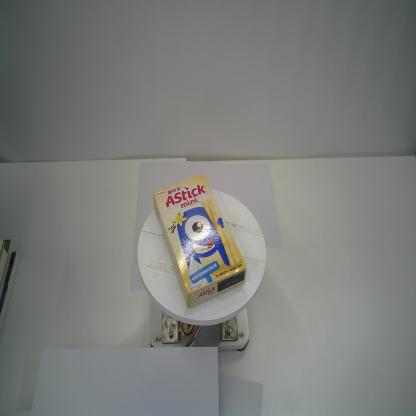Dessert: (153, 174, 247, 310)
